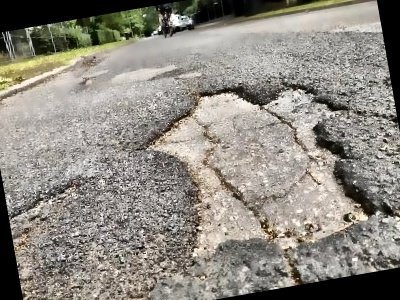pothole: (132, 61, 386, 269)
